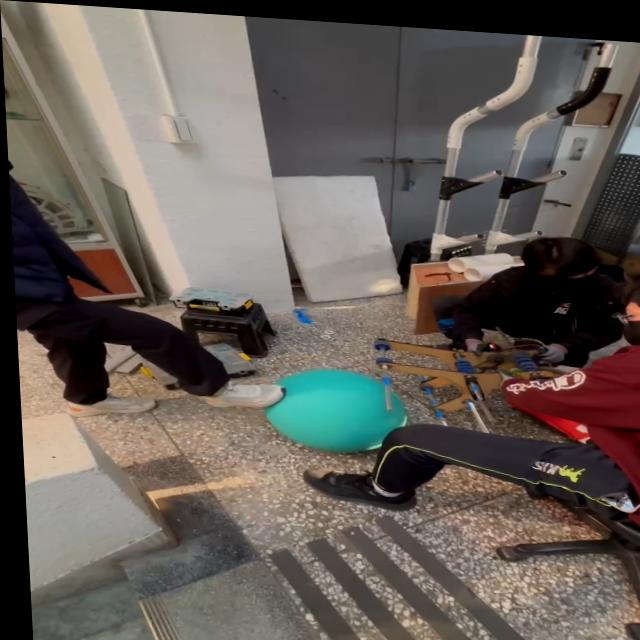ALGAE: (259, 363, 411, 459)
